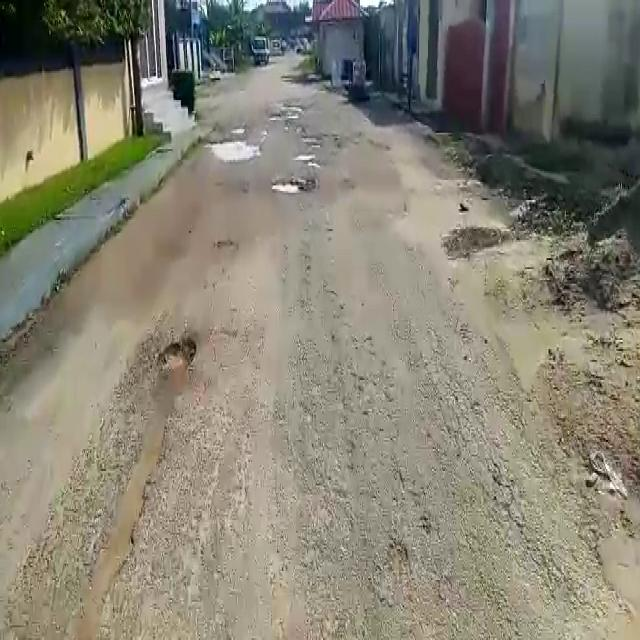Pothole: (156, 333, 197, 388), (210, 138, 264, 162), (267, 178, 309, 197)
